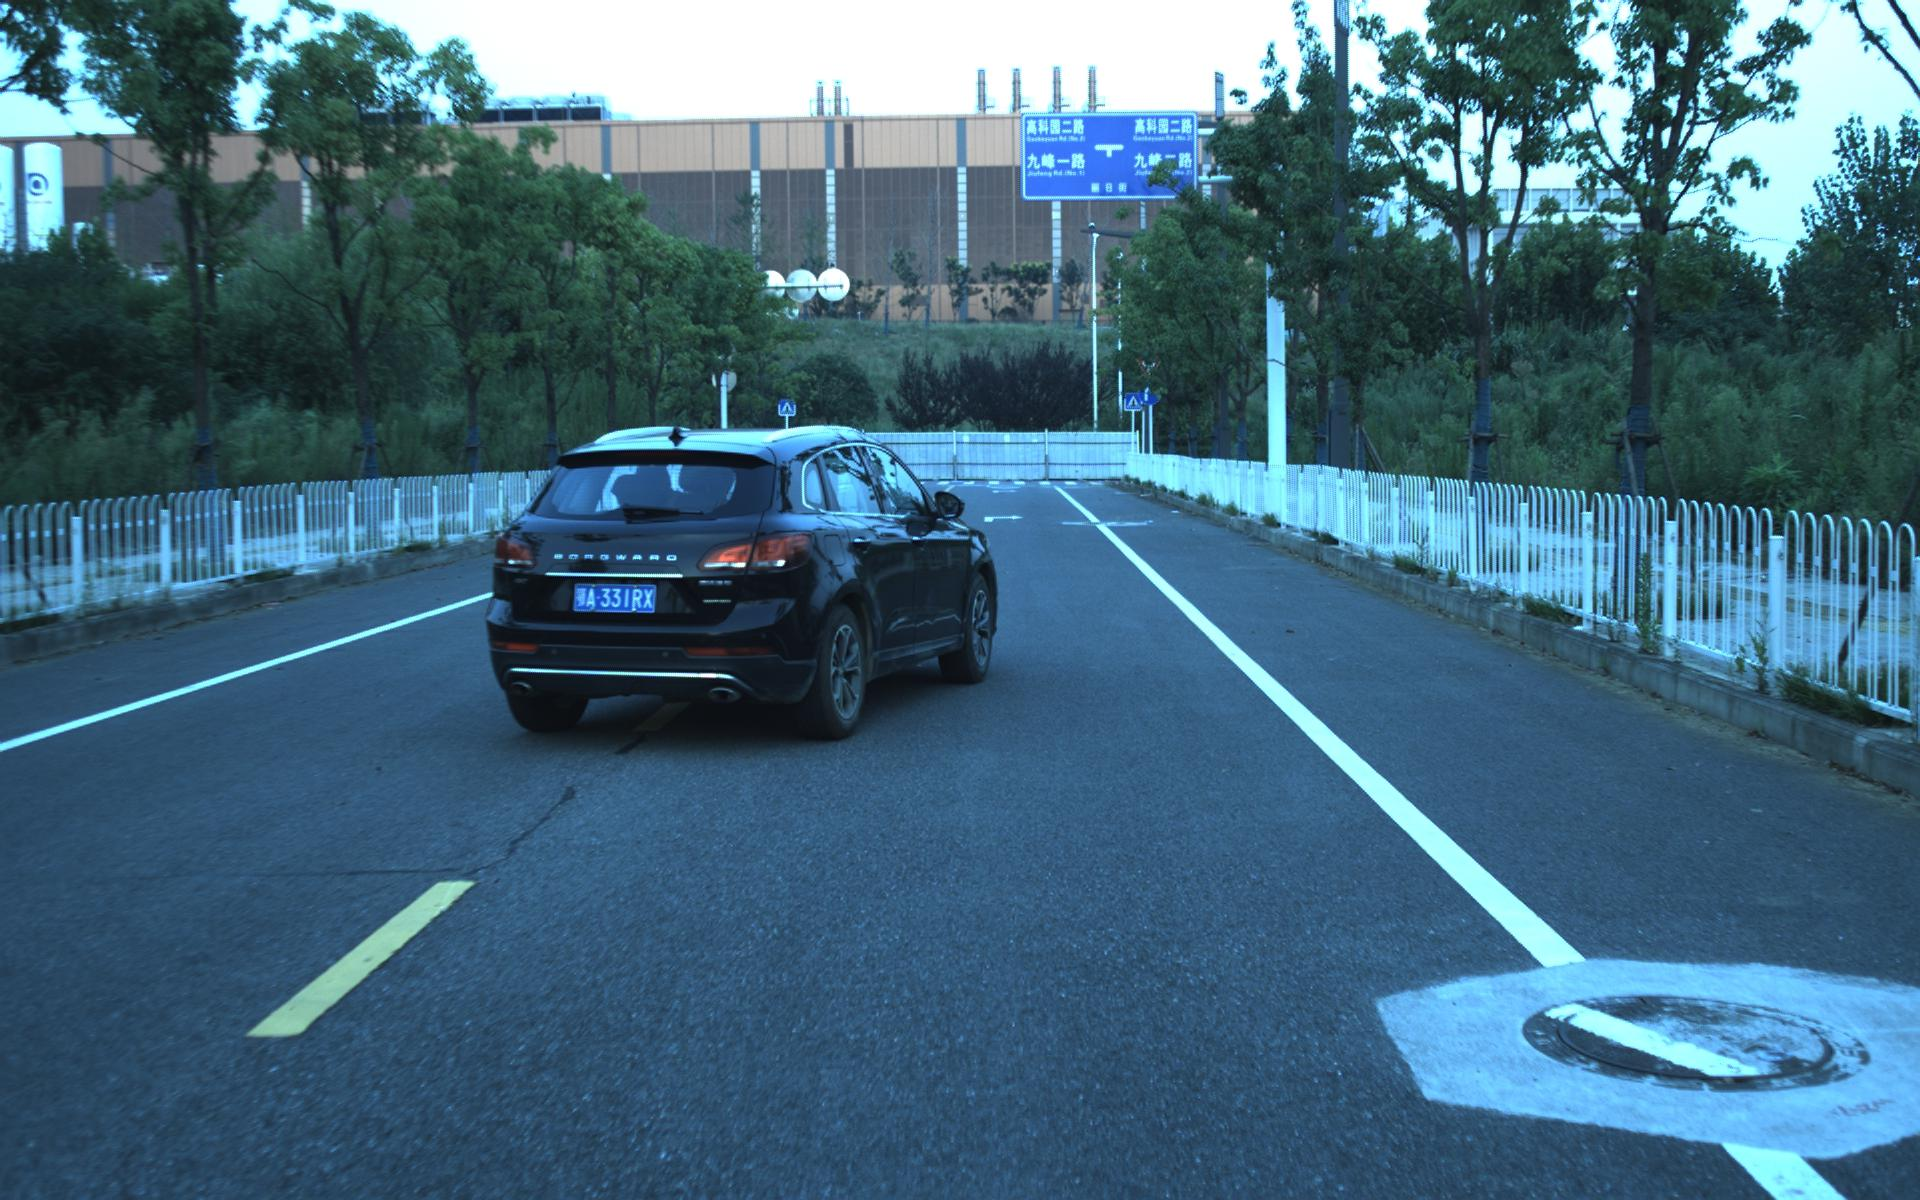Car: (466, 408, 999, 756)
